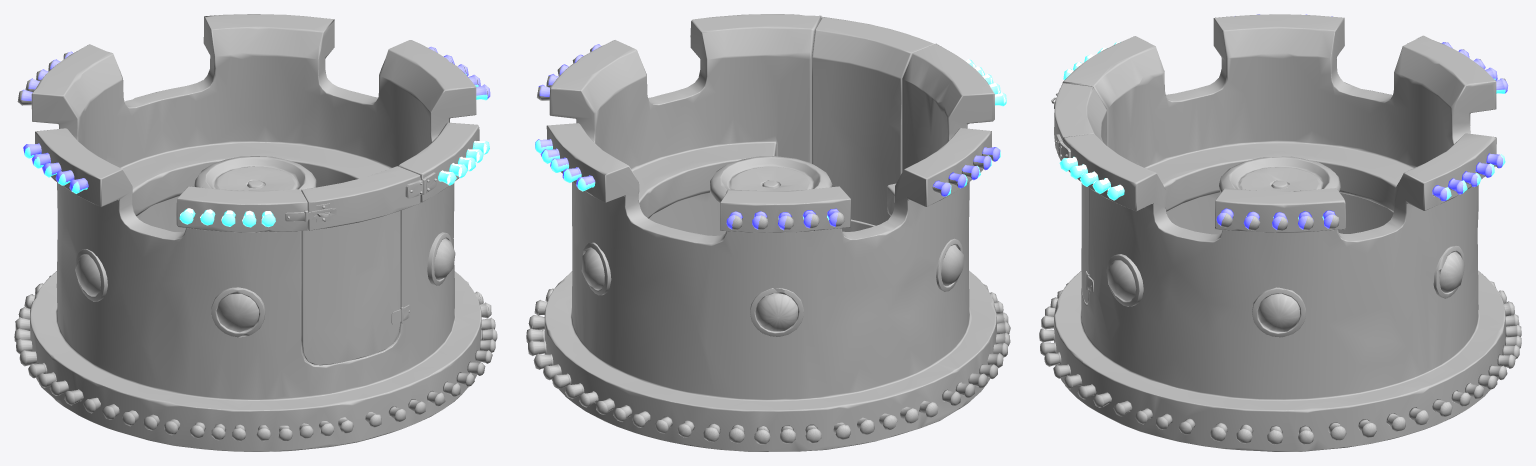
Rendered from SM_ClownRideseat.fbx.
3 renders of one model, left to right at view 1: azimuth 30°, elevation 25°; view 2: azimuth 150°, elevation 25°; view 3: azimuth 270°, elevation 25°, orthographic.
Visible parts, largest first — view 1: SM_ClownRideseat_LOD0; view 2: SM_ClownRideseat_LOD0; view 3: SM_ClownRideseat_LOD0.
Part boxes in pixels (x1,y1,x2,y2): SM_ClownRideseat_LOD0: (14,14,497,451); SM_ClownRideseat_LOD0: (526,14,1010,451); SM_ClownRideseat_LOD0: (1039,14,1521,451).
Bounding box in the file's own units: 223 × 222 × 126.
